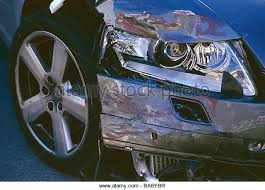Broken-glass: (104, 29, 256, 99)
Dent: (103, 91, 232, 155), (106, 12, 232, 44)
